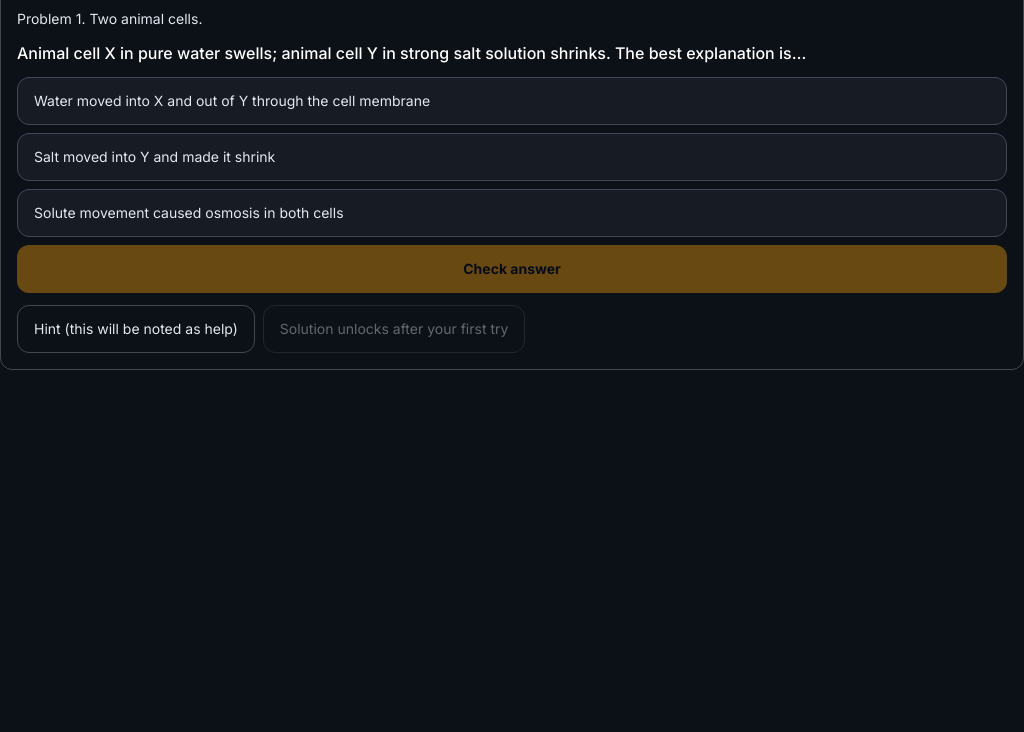
Test: labelled diagrams: tap-to-inspect, keyboard and text alternatives › a practice solution diagram appears only once the solution is shown
The image size is (1024, 732).
Click the radio button labelled "Water moved into X and out of Y through the cell membrane". click: (232, 100)
box: top-left (17, 77), bottom-right (1007, 125)
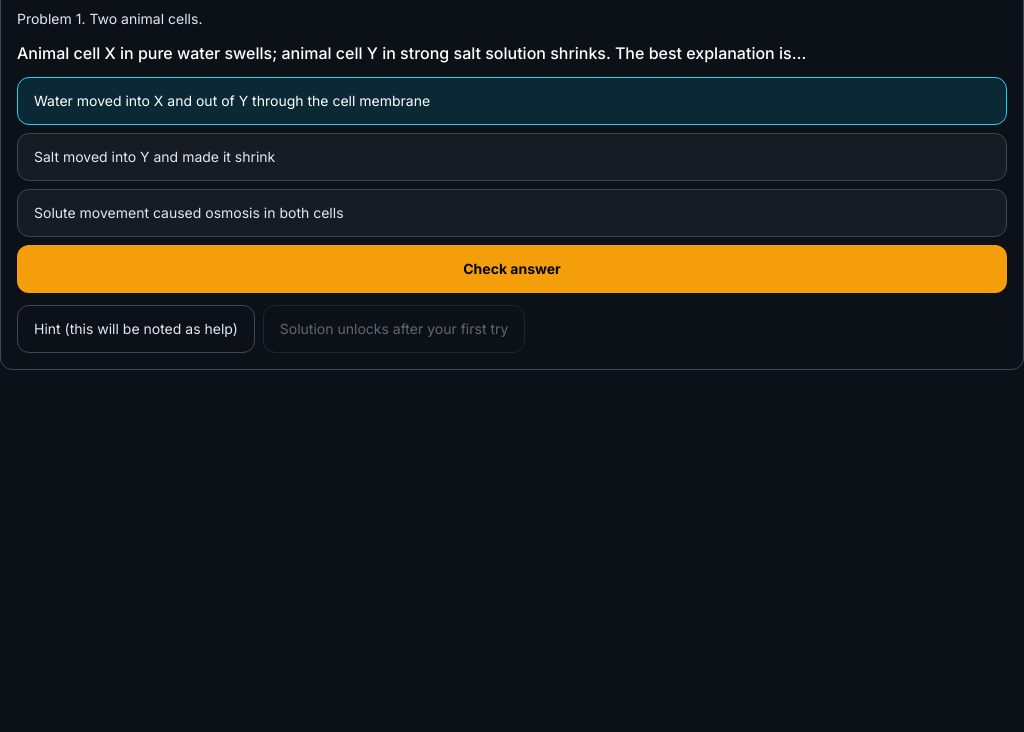
Click the button "Check answer". click: (512, 269)
box: top-left (17, 245), bottom-right (1007, 293)
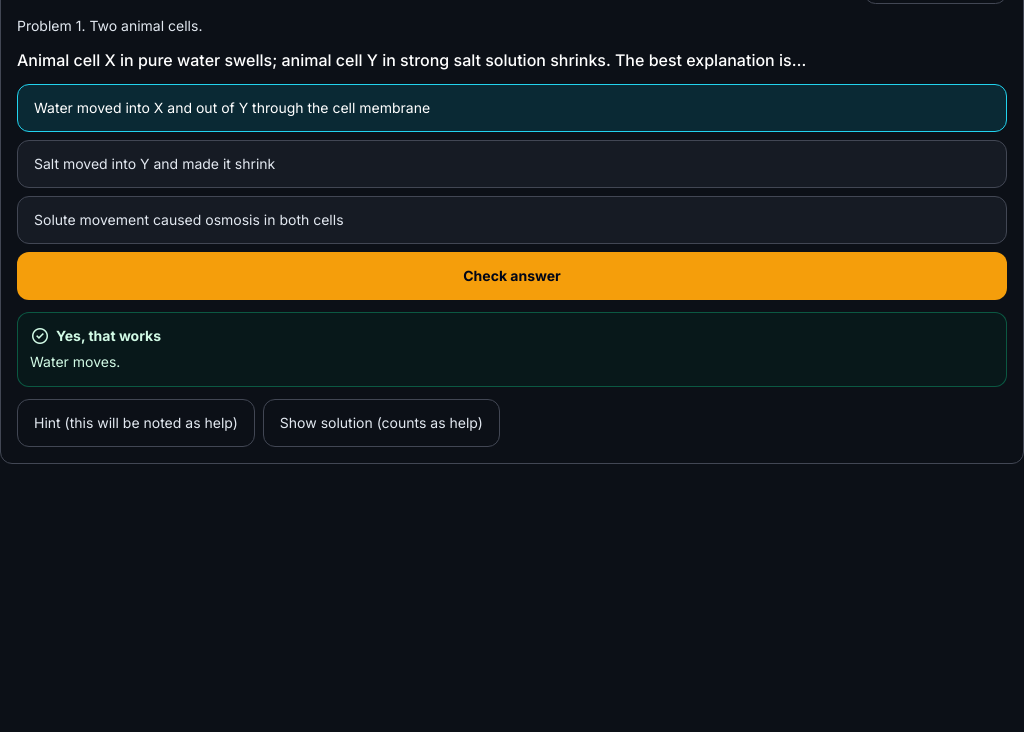
Click the button "Show solution (counts as help)". click: (381, 423)
box: top-left (263, 399), bottom-right (500, 447)
(page scrolled)
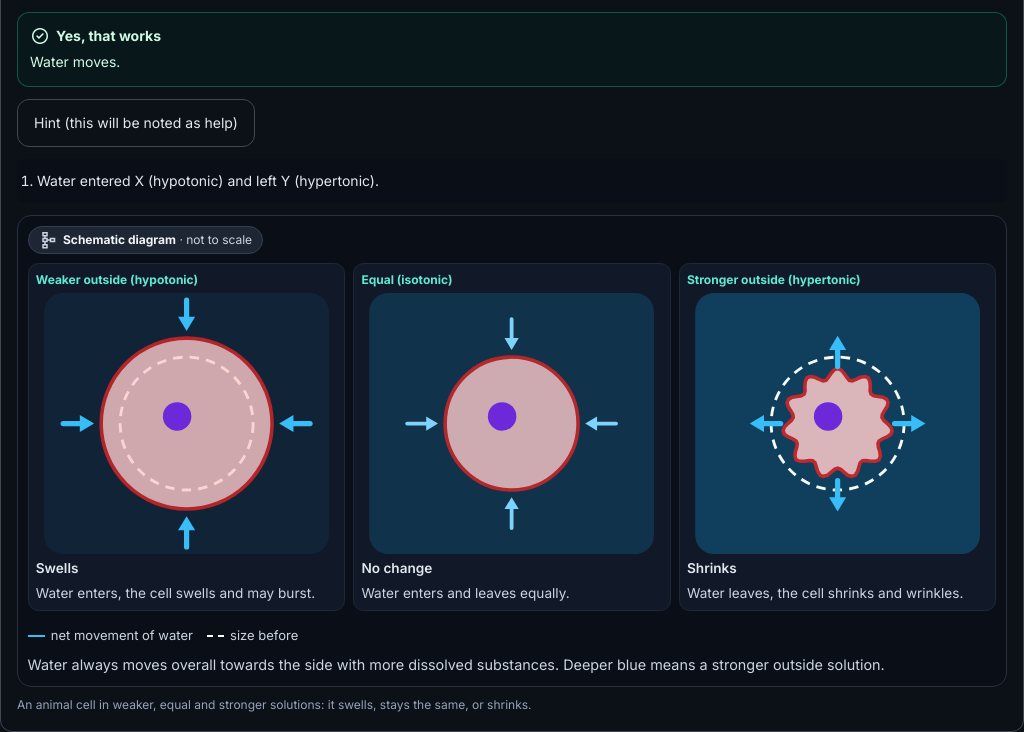
Now the element with test id "tonicity-compare" is shown
